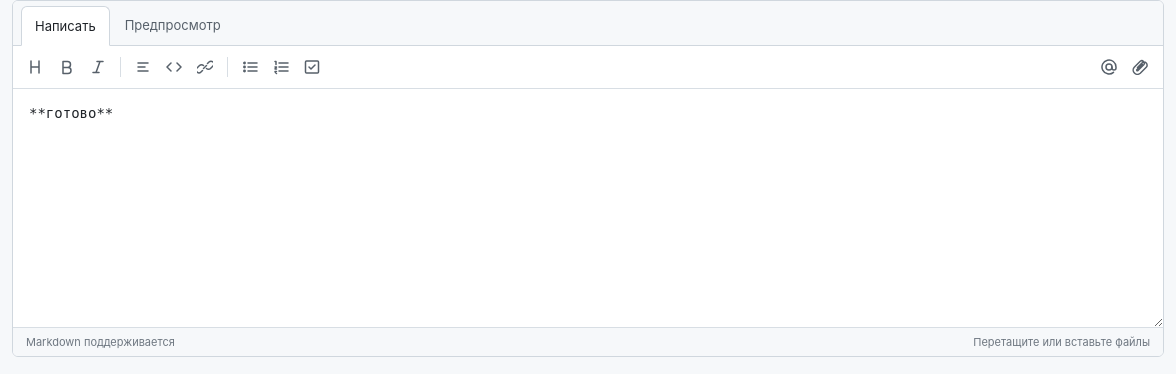
Test: MarkdownEditor › switches between writing and preview tabs
The width and height of the screenshot is (1176, 374).
Click the tab "Предпросмотр".
click(173, 25)  # box [111,5,235,45]
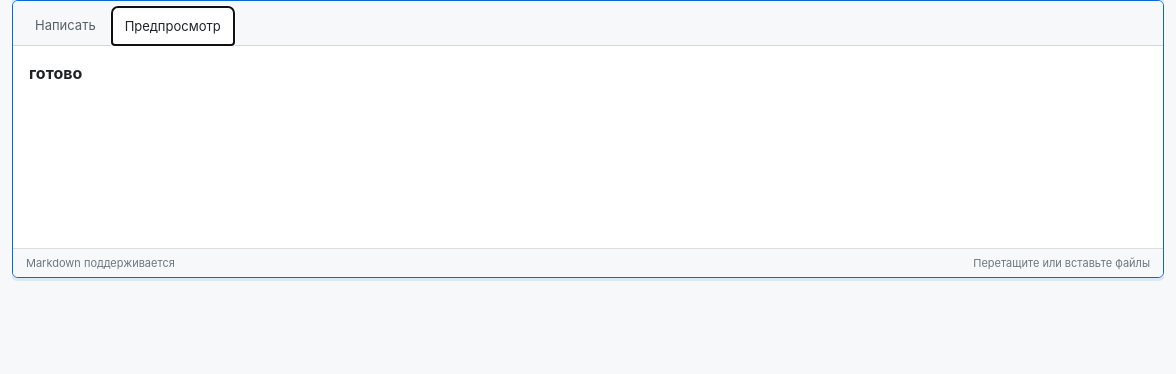
Result: the panel named "Предпросмотр" reads "готово" at [29,63,82,83]
